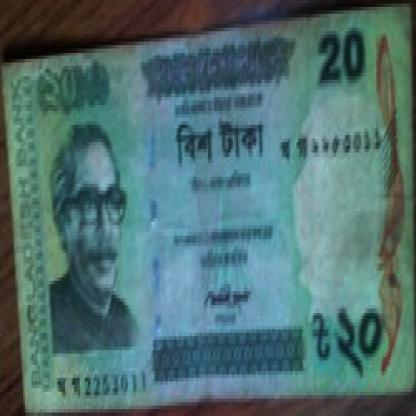Twenty: (311, 298, 386, 378), (170, 121, 278, 163), (38, 66, 118, 121), (310, 20, 374, 86)
